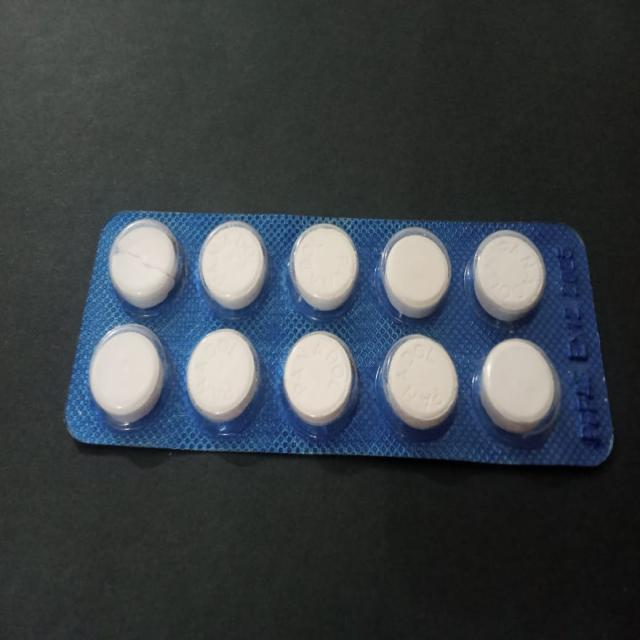defect: (107, 218, 185, 312)
